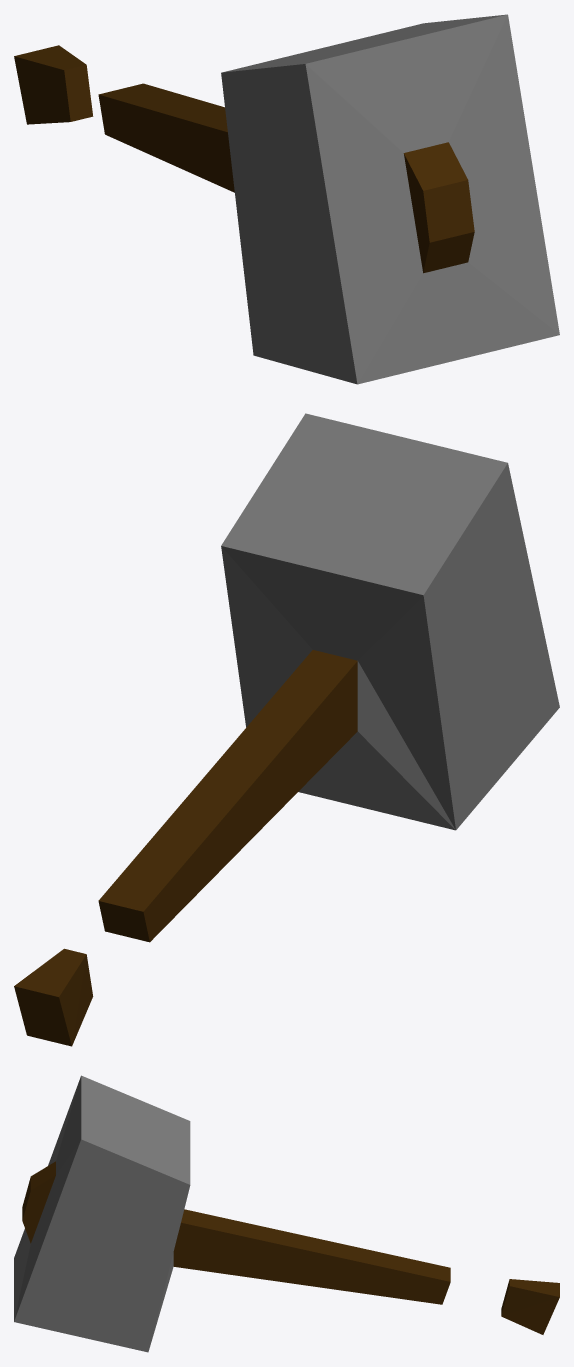
File: iron_warhammer_equipped.obj
3 renders of one model, top to bottom at view 1: azimuth 30°, elevation 25°; view 2: azimuth 150°, elevation 25°; view 3: azimuth 270°, elevation 25°, orthographic. The views are drawn at different scales.
Visible parts, largest first — view 1: runescapemodel; view 2: runescapemodel; view 3: runescapemodel.
Part boxes in pixels (left/top/right/bottom): runescapemodel: left=14, top=14, right=559, bottom=384; runescapemodel: left=14, top=413, right=559, bottom=1046; runescapemodel: left=14, top=1075, right=559, bottom=1352.
Size of the model in its own units: 18 by 29 by 65.
